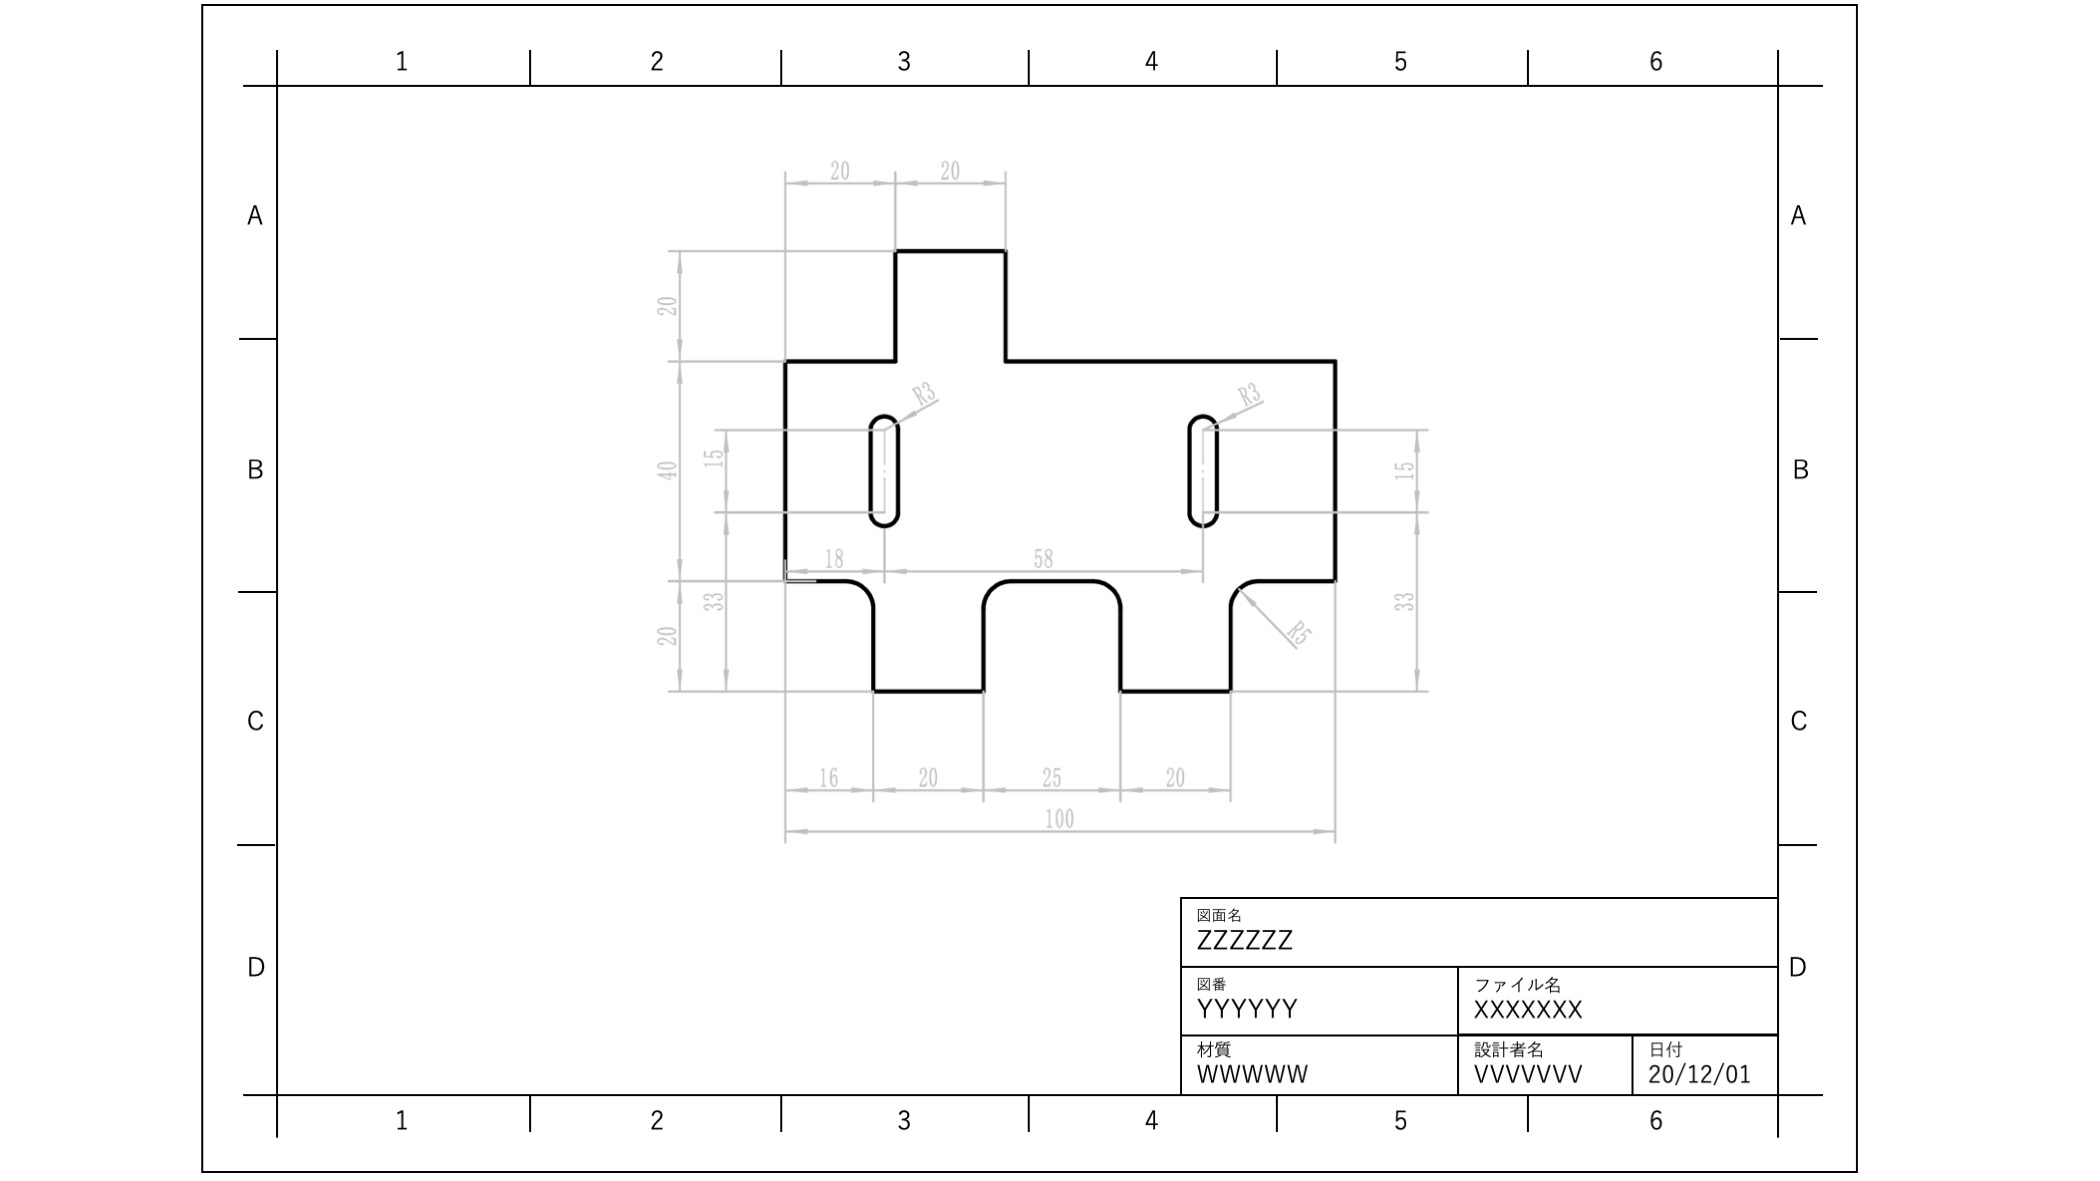round_rectangle: (855, 401, 912, 534), (1175, 399, 1227, 536)
